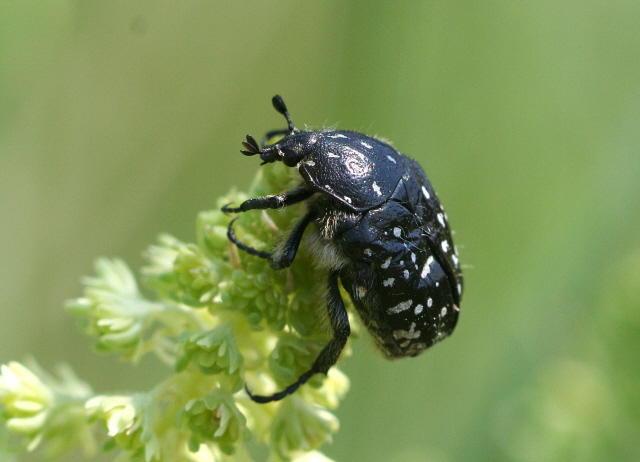Oxythyrea_funesta: (220, 86, 473, 406)
